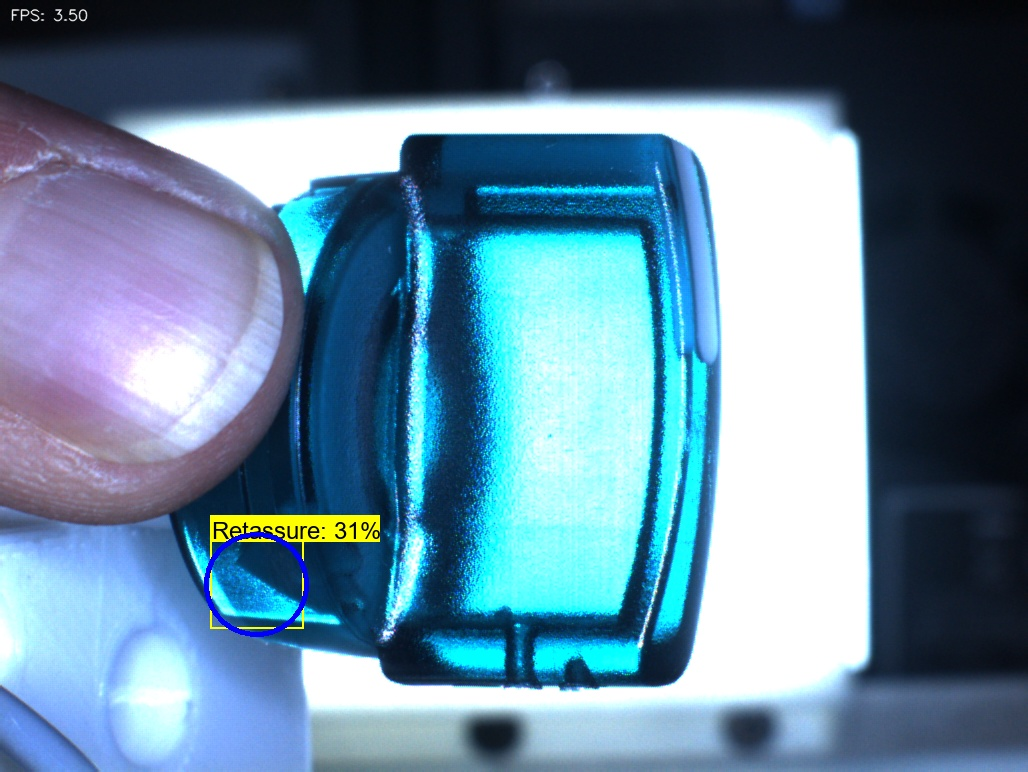Bulle: (547, 636, 629, 726)
